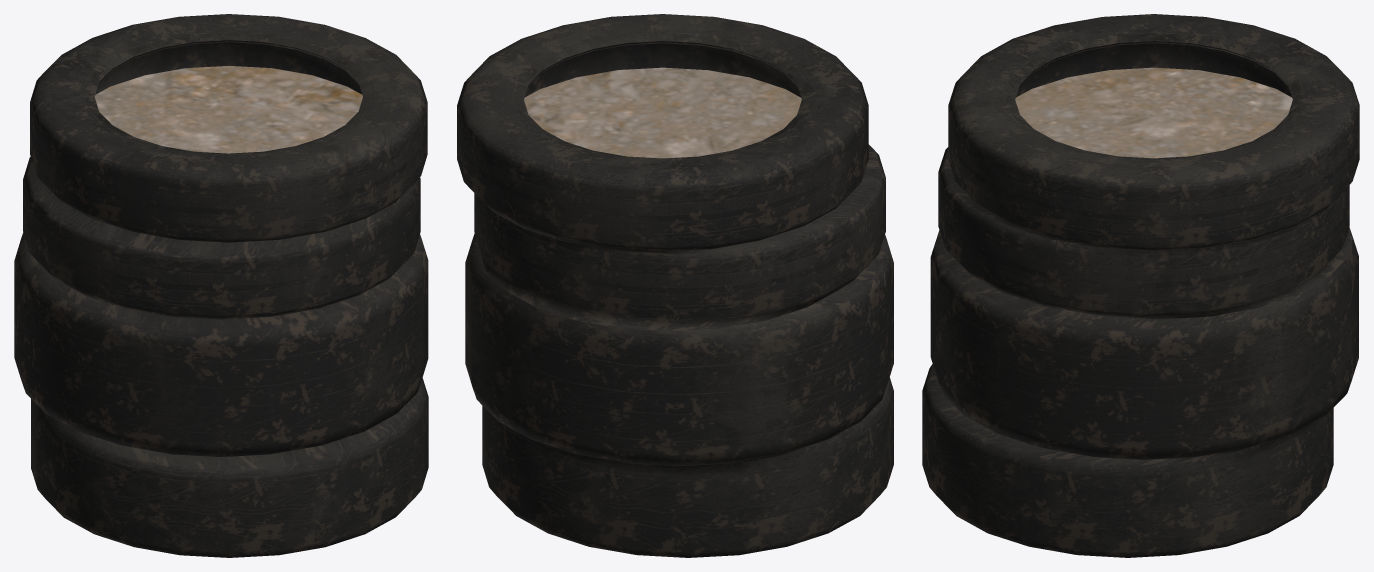
File: TrTiresStackA2B.fbx
3 renders of one model, left to right at view 1: azimuth 30°, elevation 25°; view 2: azimuth 150°, elevation 25°; view 3: azimuth 270°, elevation 25°, orthographic. The views are drawn at different scales.
Parts seen in each view (by area): view 1: TrTiresStackA2B_LOD0; view 2: TrTiresStackA2B_LOD0; view 3: TrTiresStackA2B_LOD0.
Boxes of the visible parts, x1=… form: TrTiresStackA2B_LOD0: x1=14, y1=14, x2=428, y2=557; TrTiresStackA2B_LOD0: x1=457, y1=14, x2=893, y2=557; TrTiresStackA2B_LOD0: x1=922, y1=14, x2=1359, y2=557.
Size of what is drawn, in the model's own units: 67.17 by 66.1 by 67.72.
1 material, 1 textured.
